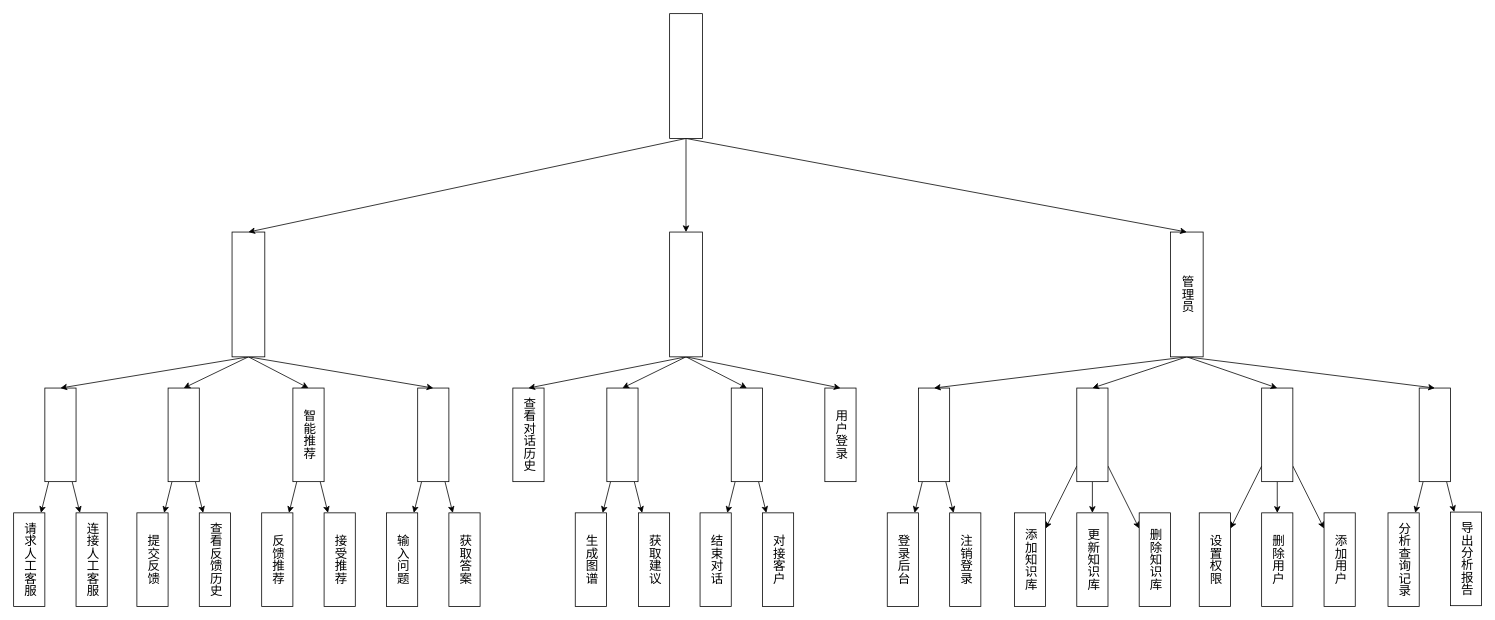
The diagram is 1495 pixels wide and 620 high, and some of its shapes have lost their labels. The shapes that lost their labels are listed below. From the top down, each one's centre as x and y in pixels, then its label:
pixel 685 75: 客服问答辅助系统
pixel 248 294: 客户
pixel 685 294: 人工客服
pixel 60 434: 转接人工客服
pixel 183 434: 满意度反馈
pixel 433 434: 自助查询
pixel 622 434: AI辅助
pixel 746 434: 互动交流
pixel 934 434: 管理员登录
pixel 1092 434: 编辑知识库
pixel 1277 434: 用户管理
pixel 1434 434: 数据分析
